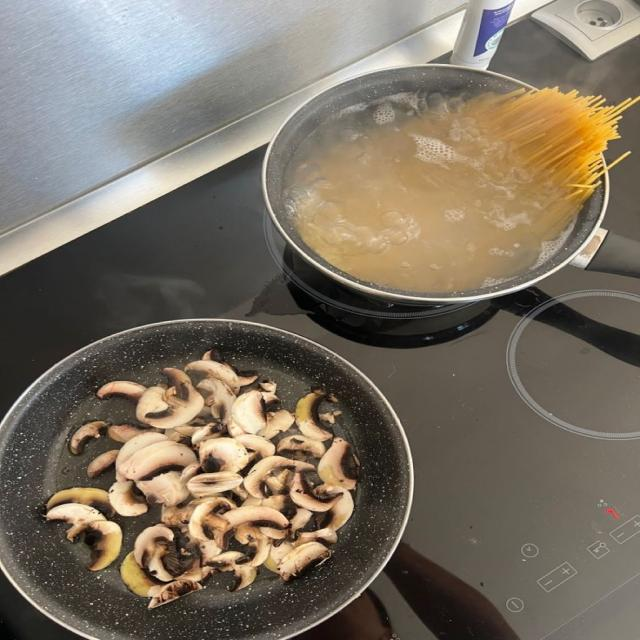champignon mushrooms: (47, 349, 359, 608), (137, 368, 204, 429), (119, 440, 196, 481), (244, 456, 313, 498), (116, 432, 168, 481), (134, 526, 177, 581), (189, 497, 235, 547), (46, 503, 106, 541), (278, 542, 332, 581), (318, 438, 359, 489), (290, 473, 342, 512), (47, 488, 113, 518), (295, 389, 333, 441), (85, 520, 122, 571), (185, 360, 240, 394), (120, 552, 162, 596), (209, 552, 256, 591), (136, 472, 189, 506), (197, 378, 236, 424), (199, 438, 248, 472), (222, 505, 289, 529), (316, 490, 353, 531), (148, 580, 202, 608), (232, 390, 266, 434), (187, 472, 242, 497), (109, 481, 147, 516), (70, 421, 109, 455), (136, 386, 167, 423), (278, 435, 325, 459), (237, 534, 271, 566), (260, 410, 294, 439), (97, 381, 146, 401), (235, 434, 275, 457), (161, 501, 197, 526), (264, 542, 293, 573), (87, 450, 119, 478), (261, 495, 296, 519), (294, 528, 337, 546), (263, 469, 293, 494), (192, 423, 226, 445), (107, 425, 147, 442), (199, 540, 222, 568), (234, 524, 266, 544), (290, 508, 312, 537), (180, 461, 201, 484), (259, 380, 277, 394)
